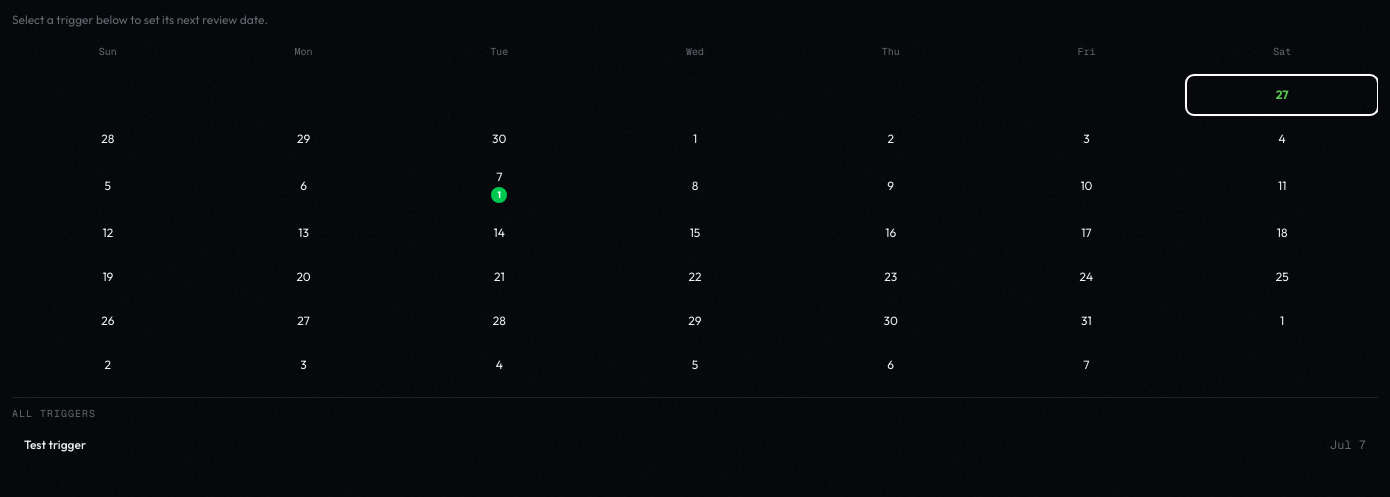
Test: ScheduleCalendar › shows an error message and rolls back when PATCH fails
Click the button "Test trigger Jul 7" at (55, 444), box [12, 429, 1378, 461]
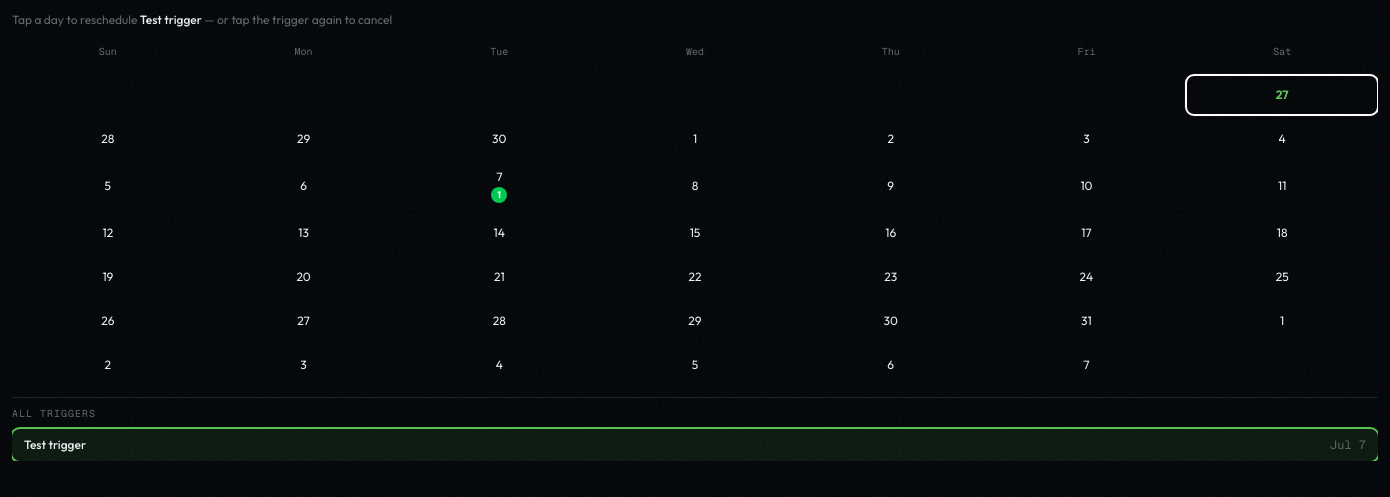
Click the 1st button "4" at (1282, 139), box [1186, 119, 1378, 159]
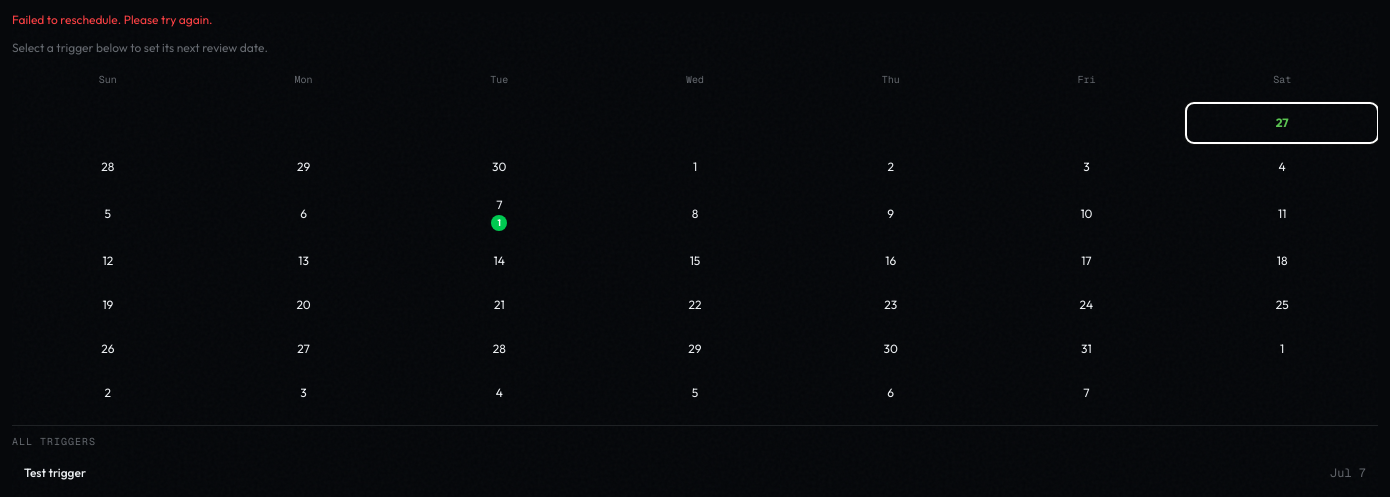
Expected: the text "Failed to reschedule. Please try again." is shown, [12, 12, 212, 27]
